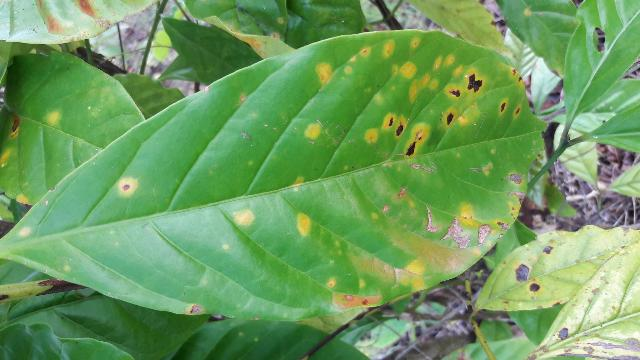rust_level_3: (0, 30, 554, 322)
